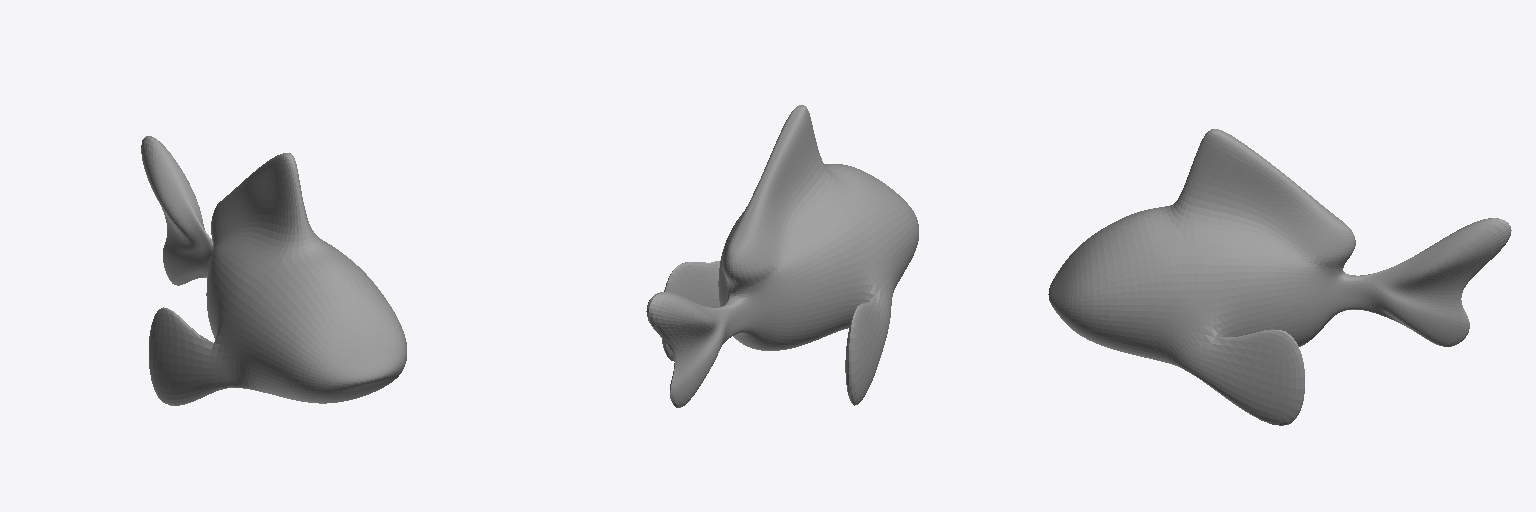
Rendered from fish2.obj.
3 renders of one model, left to right at view 1: azimuth 30°, elevation 25°; view 2: azimuth 150°, elevation 25°; view 3: azimuth 270°, elevation 25°, orthographic.
Visible parts, largest first — view 1: blub_quadrangulated; view 2: blub_quadrangulated; view 3: blub_quadrangulated.
Part boxes in pixels (left/top/right/bottom): blub_quadrangulated: left=141, top=136, right=406, bottom=405; blub_quadrangulated: left=646, top=105, right=918, bottom=407; blub_quadrangulated: left=1048, top=129, right=1511, bottom=425.
Size of the model in its own units: 1.42 by 1.75 by 2.91.